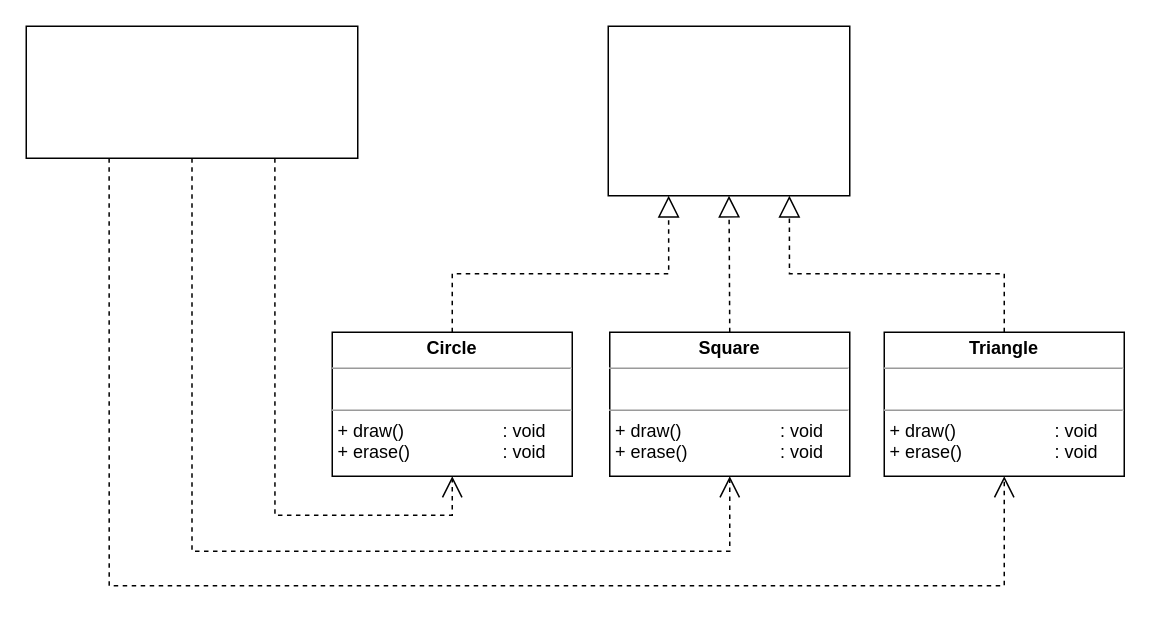
Image size: 1151x633. Some labels were removed from this diagram. Here are the shapes that lost their labels. From the top down, the centre of each, then its label:
At point 191,91: "ShapeFactory + createShape(String type) : Shape".
At point 728,110: "<<Interface>> Shape + draw() : void + erase() : void".
